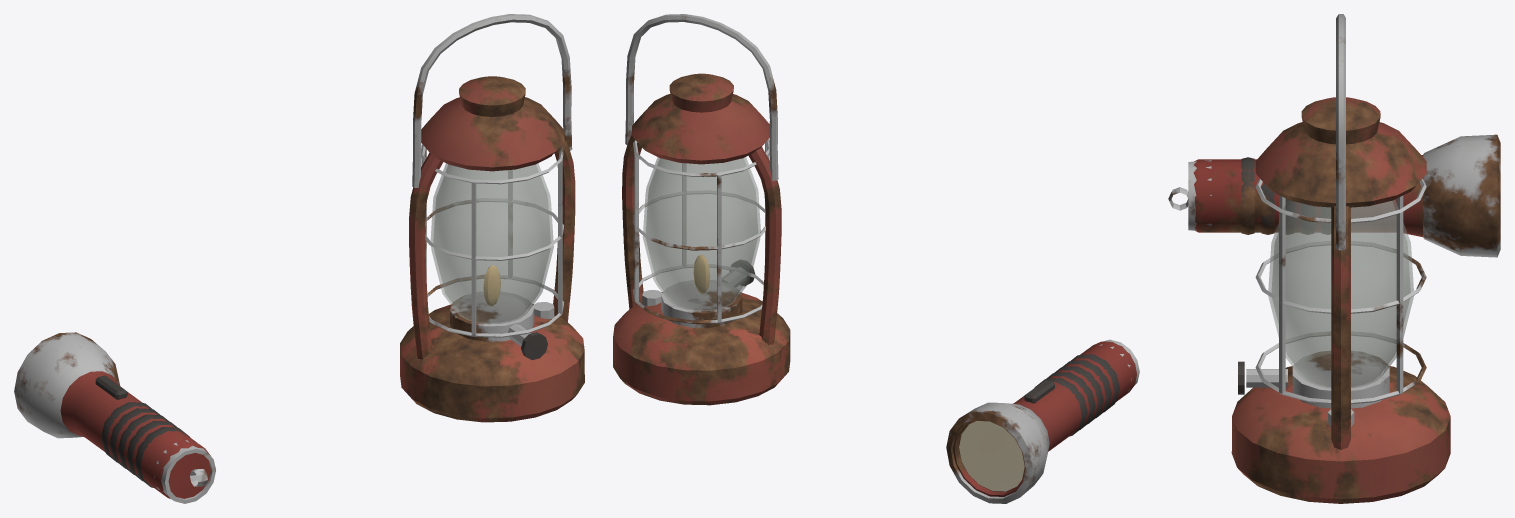
Rendered from HandLights.fbx.
3 views of the same model, side by side, from view 1: azimuth 30°, elevation 25°; view 2: azimuth 150°, elevation 25°; view 3: azimuth 270°, elevation 25° (orthographic). The views are drawn at different scales.
Parts seen in each view (by area): view 1: StormLantern, Flashlight, StormLantern_Glass; view 2: StormLantern, StormLantern_Glass, Flashlight, Flashlight_Neon; view 3: StormLantern, Flashlight, StormLantern_Glass.
Part boxes in pixels (x1,y1,x2,y2): StormLantern: (400,14,584,422); Flashlight: (14,332,215,503); StormLantern_Glass: (430,163,553,324); StormLantern: (613,14,790,405); StormLantern_Glass: (642,157,760,311); Flashlight: (946,339,1139,503); Flashlight_Neon: (959,421,1024,491); StormLantern: (1231,14,1450,503); Flashlight: (1168,134,1500,257); StormLantern_Glass: (1268,199,1413,388).
Bounding box in the file's own units: 113 × 80.81 × 56.
Materials: 2 (2 with a texture image).
